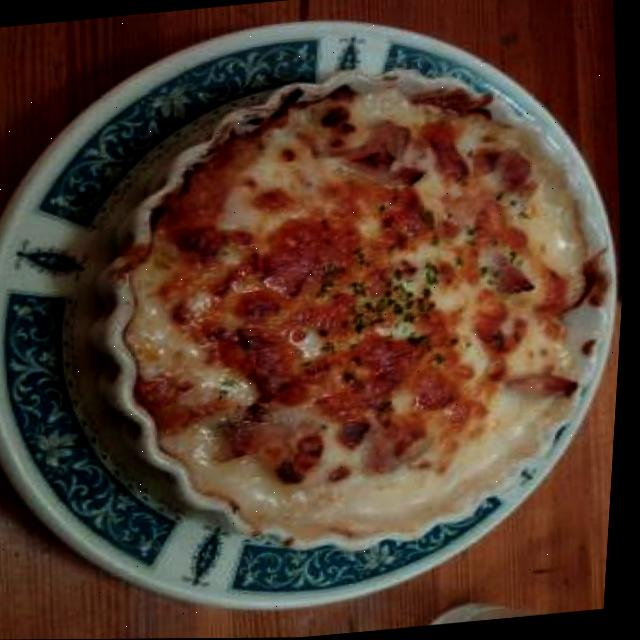米饭主食: (152, 102, 579, 514)
